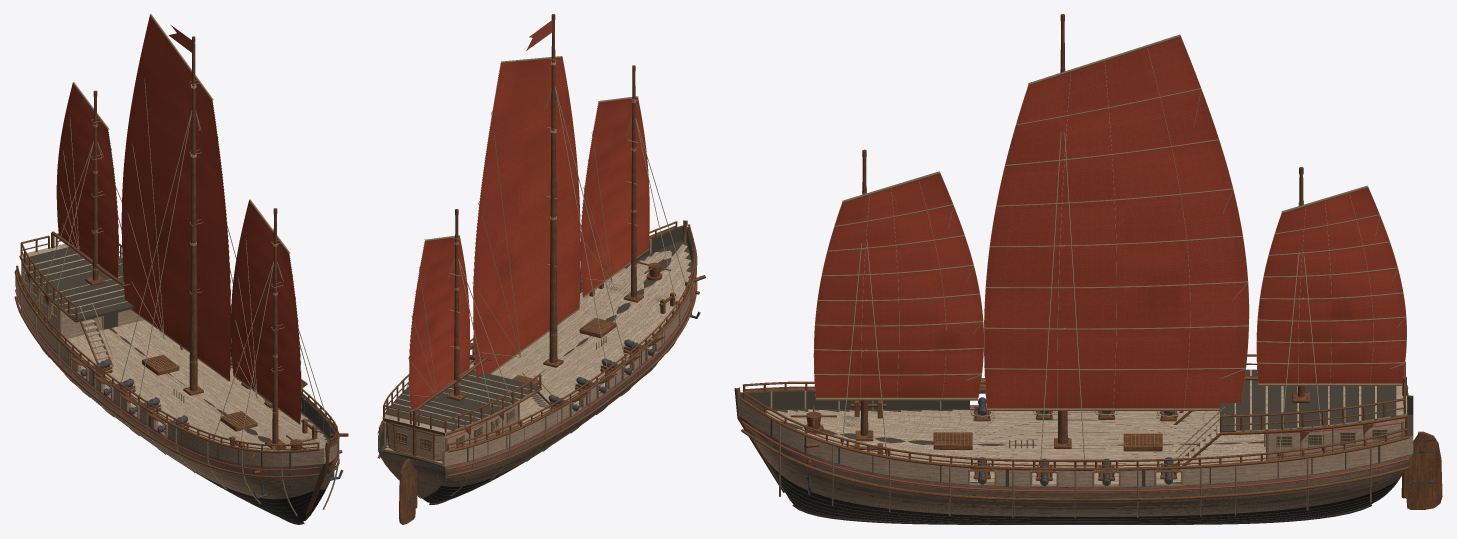
The model's file is fuchuan-lod0.glb.
3 renders of one model, left to right at view 1: azimuth 30°, elevation 25°; view 2: azimuth 150°, elevation 25°; view 3: azimuth 270°, elevation 25°, orthographic. The views are drawn at different scales.
Parts seen in each view (by area): view 1: sail_1, hull, deck, sail_0, sail_2, shadow_deck, deck_fittings, bulwark_rails, mast_timber_1, shadow_hull, sterncastle, mast_timber_0 (+8 smaller); view 2: sail_1, deck, hull, sail_0, sail_2, shadow_deck, deck_fittings, shadow_hull, bulwark_rails, mast_timber_1, mast_timber_0, stern_transom (+9 smaller); view 3: sail_1, hull, sail_0, sail_2, deck, shadow_hull, shadow_deck, bulwark_rails, deck_fittings, rudder_blade, sterncastle, rigging_1.
Boxes of the visible parts, bbox=[...] form: sail_1: bbox=[121, 14, 231, 381]; hull: bbox=[14, 270, 339, 524]; deck: bbox=[19, 244, 330, 450]; sail_0: bbox=[231, 199, 301, 424]; sail_2: bbox=[56, 82, 119, 278]; shadow_deck: bbox=[22, 247, 133, 322]; deck_fittings: bbox=[21, 262, 348, 498]; bulwark_rails: bbox=[16, 233, 338, 452]; mast_timber_1: bbox=[189, 43, 197, 390]; shadow_hull: bbox=[15, 270, 337, 521]; sterncastle: bbox=[23, 266, 144, 339]; mast_timber_0: bbox=[272, 214, 278, 443]; sail_1: bbox=[472, 56, 580, 378]; deck: bbox=[382, 244, 690, 463]; hull: bbox=[377, 220, 697, 504]; sail_0: bbox=[580, 96, 649, 297]; sail_2: bbox=[408, 235, 469, 411]; shadow_deck: bbox=[383, 370, 540, 435]; deck_fittings: bbox=[383, 259, 705, 461]; shadow_hull: bbox=[378, 225, 695, 502]; bulwark_rails: bbox=[378, 221, 695, 451]; mast_timber_1: bbox=[549, 20, 557, 362]; mast_timber_0: bbox=[631, 71, 636, 297]; stern_transom: bbox=[388, 423, 444, 458]; sail_1: bbox=[984, 34, 1249, 410]; hull: bbox=[734, 387, 1413, 524]; sail_0: bbox=[813, 171, 983, 400]; sail_2: bbox=[1256, 185, 1406, 386]; deck: bbox=[766, 369, 1407, 484]; shadow_hull: bbox=[738, 390, 1413, 523]; shadow_deck: bbox=[1220, 369, 1396, 432]; bulwark_rails: bbox=[742, 354, 1408, 467]; deck_fittings: bbox=[790, 385, 1407, 494]; rudder_blade: bbox=[1406, 431, 1442, 509]; sterncastle: bbox=[1266, 418, 1404, 460]; rigging_1: bbox=[1039, 132, 1086, 473].
Size of the model in its own units: 10.4 by 26.65 by 33.55.
13 materials, 8 textured.
